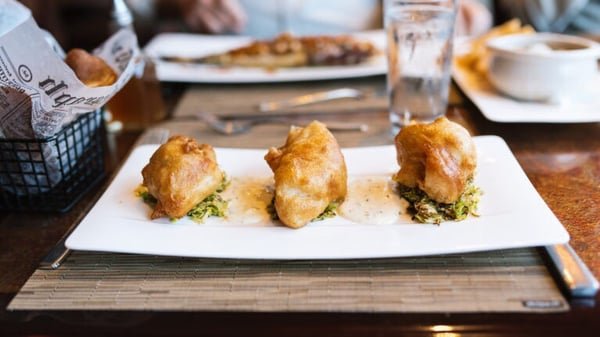soup: (264, 121, 348, 230), (139, 135, 231, 222)
sushi: (484, 31, 600, 103)
